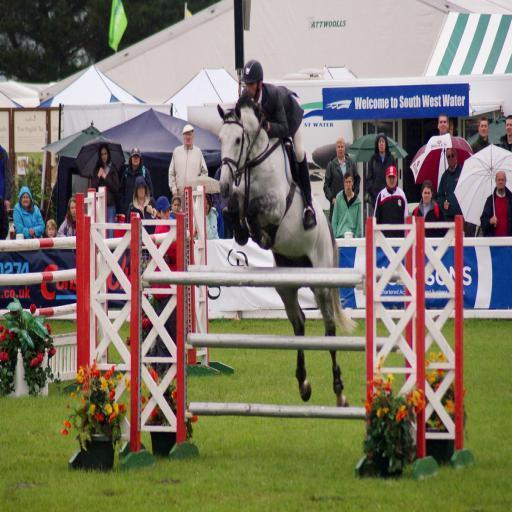horse: (217, 86, 361, 414)
